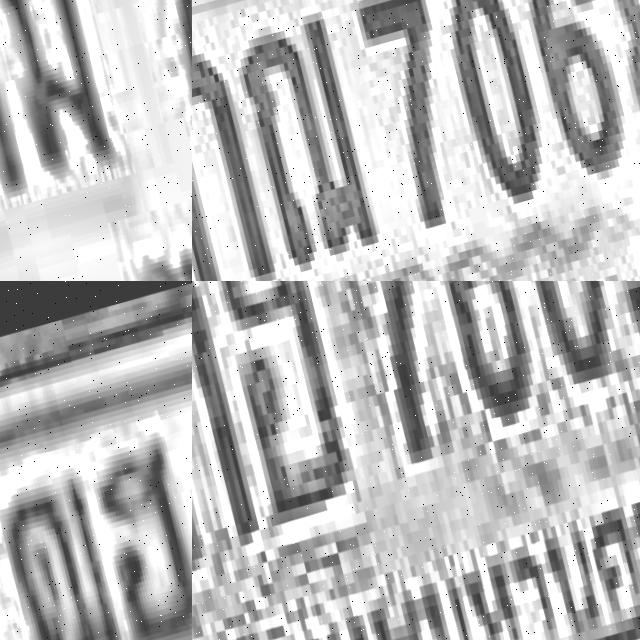license-plate: (192, 281, 640, 640), (192, 0, 640, 281), (0, 281, 192, 640), (0, 0, 192, 281)
